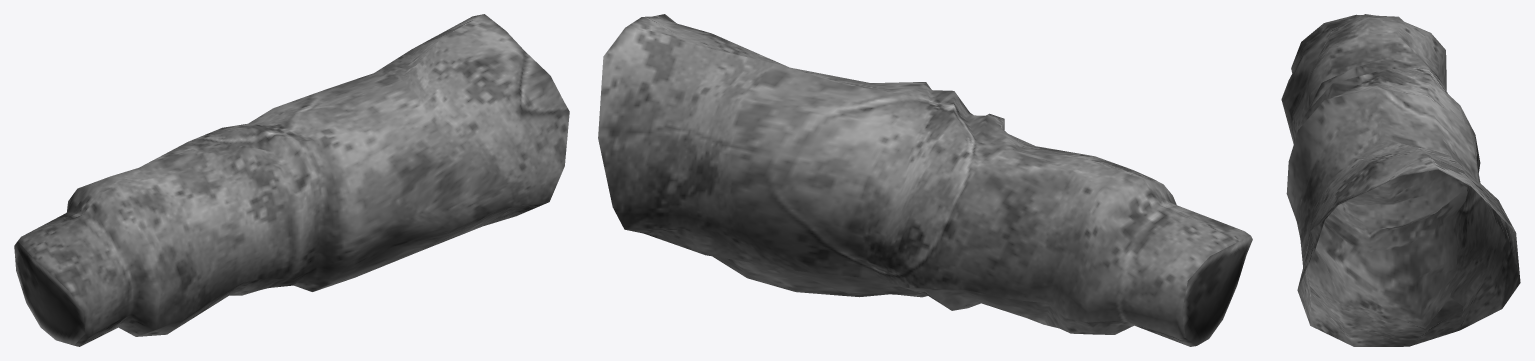
Rendered from SoldierSleeveL.fbx.
3 views of the same model, side by side, from view 1: azimuth 30°, elevation 25°; view 2: azimuth 150°, elevation 25°; view 3: azimuth 270°, elevation 25° (orthographic). The views are drawn at different scales.
Visible parts, largest first — view 1: pasted__Soldier; view 2: pasted__Soldier; view 3: pasted__Soldier.
Boxes of the visible parts, <box> form: pasted__Soldier: <box>14,14,569,346</box>; pasted__Soldier: <box>598,14,1252,346</box>; pasted__Soldier: <box>1281,14,1520,346</box>.
Bounding box in the file's own units: 49.54 × 18.42 × 18.64.
